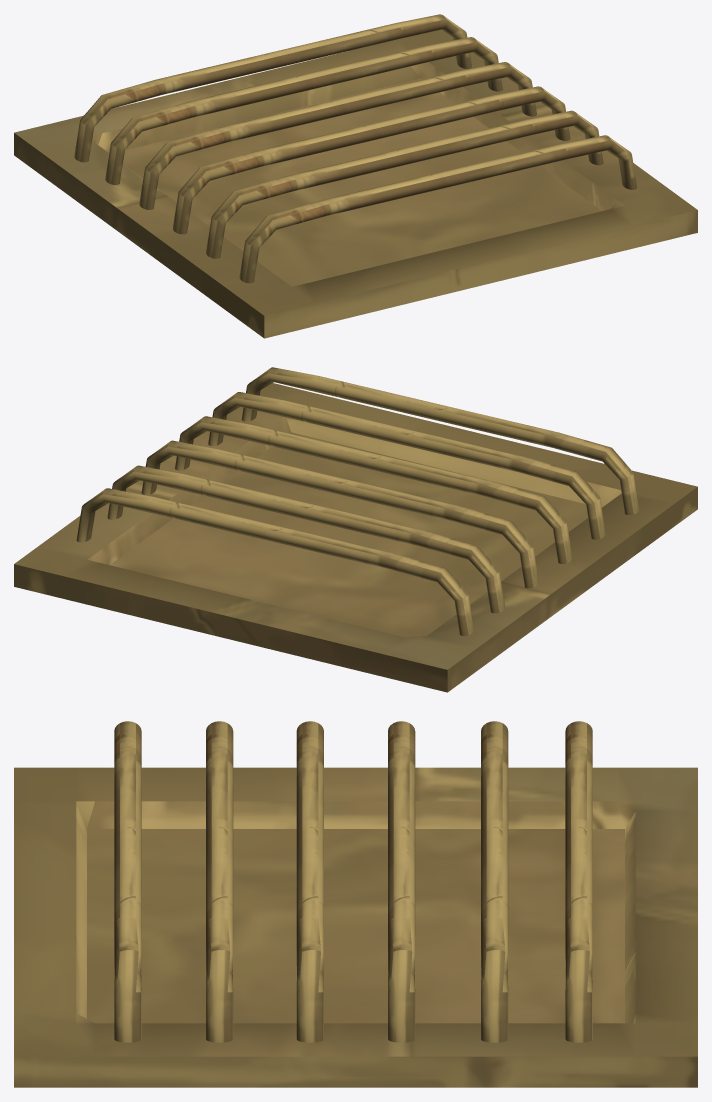
Rendered from floorwindow.obj.
3 views of the same model, one above another, from view 1: azimuth 30°, elevation 25°; view 2: azimuth 150°, elevation 25°; view 3: azimuth 270°, elevation 25° (orthographic). The views are drawn at different scales.
Visible parts, largest first — view 1: pCube1, pasted__pCylinder1 group, pasted__pCylinder1 group4, pasted__pCylinder1 group2, pasted__pCylinder1 group1, pCylinder1, pasted__pCylinder1 group3; view 2: pCube1, pCylinder1, pasted__pCylinder1 group4, pasted__pCylinder1 group2, pasted__pCylinder1 group, pasted__pCylinder1 group1, pasted__pCylinder1 group3; view 3: pCube1, pCylinder1, pasted__pCylinder1 group, pasted__pCylinder1 group2, pasted__pCylinder1 group4, pasted__pCylinder1 group1, pasted__pCylinder1 group3.
Part boxes in pixels (x1,y1,x2,y2): pCube1: [14, 30, 697, 338]; pasted__pCylinder1 group: [239, 135, 636, 283]; pasted__pCylinder1 group4: [105, 37, 502, 184]; pasted__pCylinder1 group2: [173, 86, 570, 234]; pasted__pCylinder1 group1: [206, 110, 603, 258]; pCylinder1: [74, 14, 471, 162]; pasted__pCylinder1 group3: [139, 62, 536, 209]; pCube1: [14, 383, 697, 692]; pCylinder1: [76, 488, 474, 635]; pasted__pCylinder1 group4: [107, 465, 504, 613]; pasted__pCylinder1 group2: [175, 416, 572, 563]; pasted__pCylinder1 group: [241, 367, 639, 514]; pasted__pCylinder1 group1: [208, 392, 605, 539]; pasted__pCylinder1 group3: [141, 440, 538, 588]; pCube1: [14, 767, 697, 1087]; pCylinder1: [565, 721, 592, 1042]; pasted__pCylinder1 group: [114, 721, 141, 1042]; pasted__pCylinder1 group2: [296, 721, 323, 1042]; pasted__pCylinder1 group4: [481, 721, 508, 1042]; pasted__pCylinder1 group1: [206, 721, 233, 1042]; pasted__pCylinder1 group3: [388, 721, 415, 1042].
Bounding box in the file's own units: 1 × 0.2221 × 1.
1 material, 1 textured.
